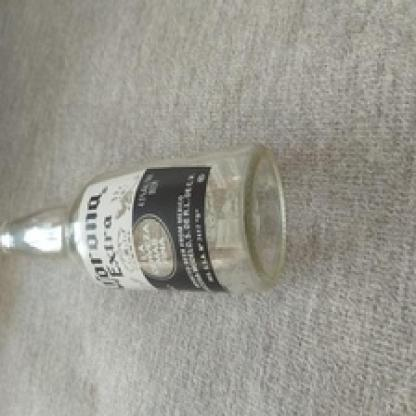Can: (0, 146, 297, 296)
